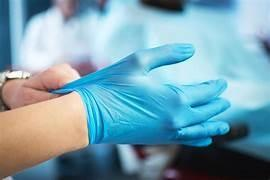Glove: (53, 44, 229, 145)
